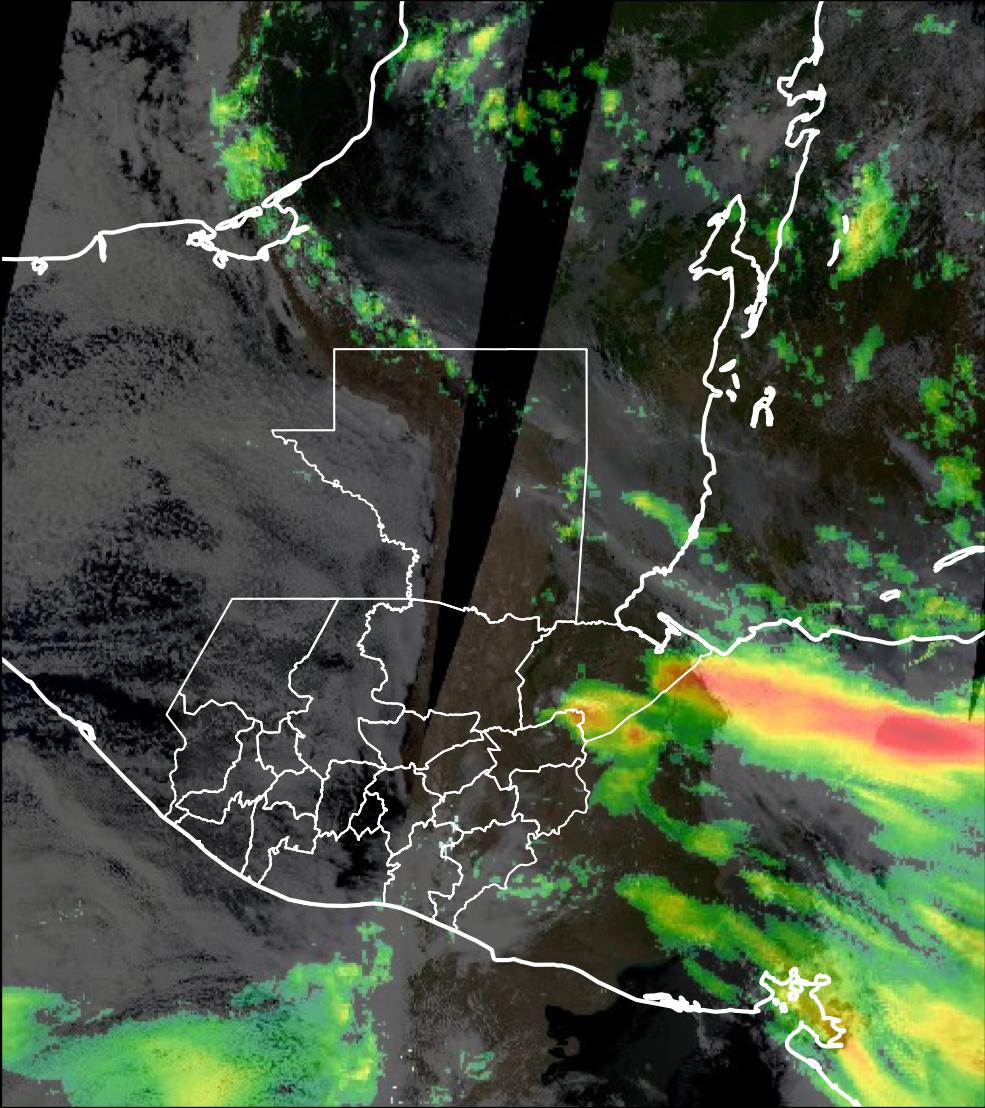precipitacion: (678, 656, 985, 769)
